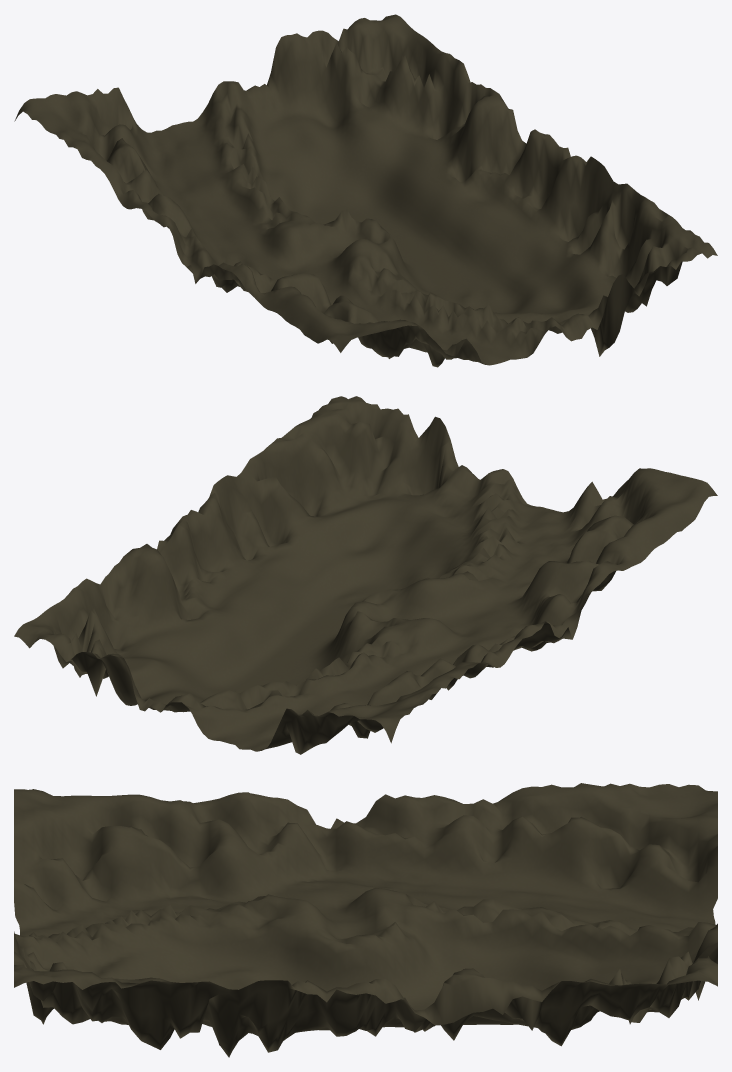
File: Lake_Cavern_Floor.obj
3 views of the same model, one above another, from view 1: azimuth 30°, elevation 25°; view 2: azimuth 150°, elevation 25°; view 3: azimuth 270°, elevation 25° (orthographic). The views are drawn at different scales.
Parts seen in each view (by area): view 1: Lake_Cavern; view 2: Lake_Cavern; view 3: Lake_Cavern.
Boxes of the visible parts, x1,y1,x2,y2 form: Lake_Cavern: (14, 14, 717, 367); Lake_Cavern: (14, 396, 717, 754); Lake_Cavern: (14, 783, 717, 1057).
Bounding box in the file's own units: 5281 × 1321 × 7921.
